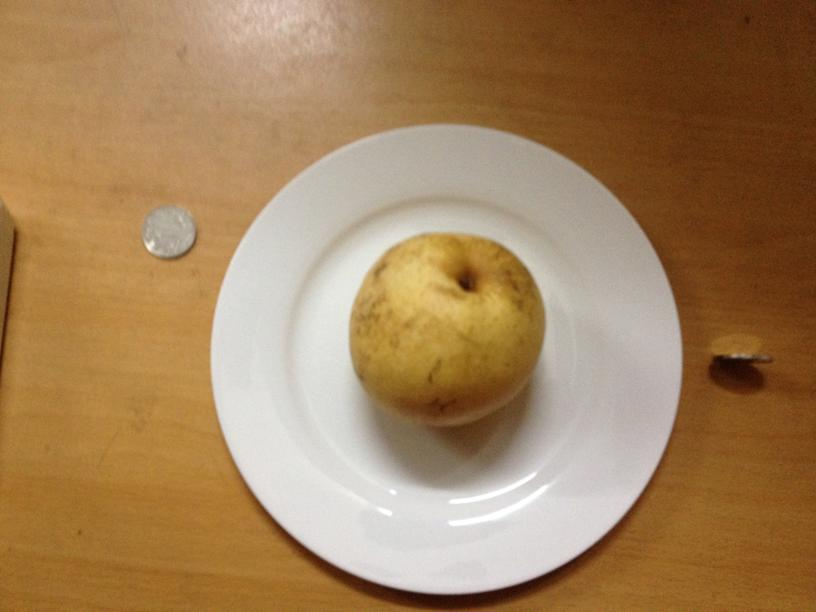coin: (141, 205, 199, 261)
pear: (342, 234, 545, 426)
